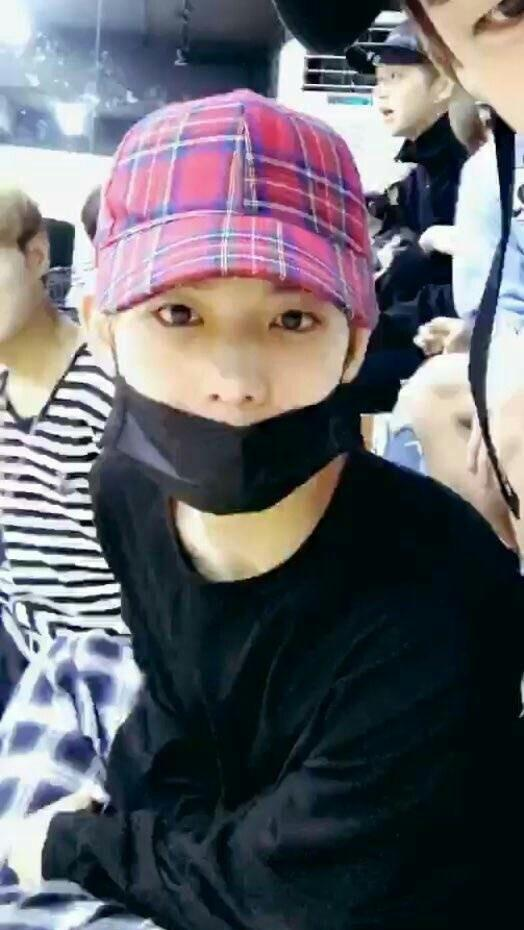NONE: (371, 65, 436, 143)
WRONG: (103, 258, 356, 495)
